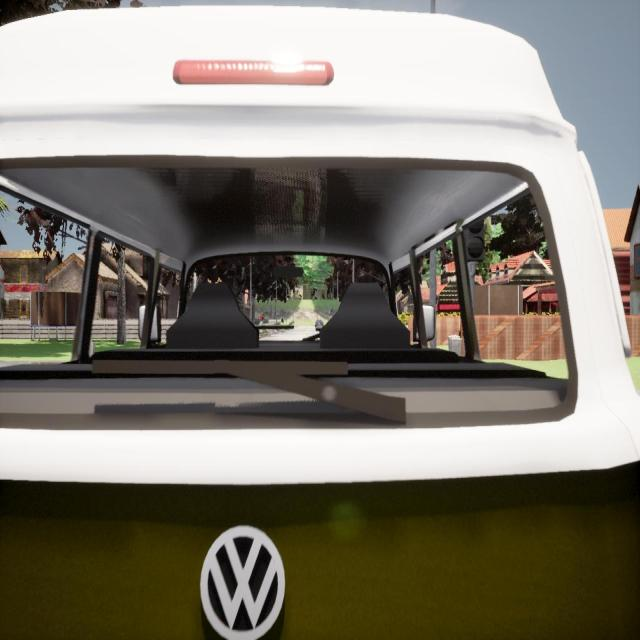Vehicle: (0, 5, 640, 640), (315, 319, 323, 327)
traffic_light: (464, 218, 484, 262), (329, 310, 330, 316)
